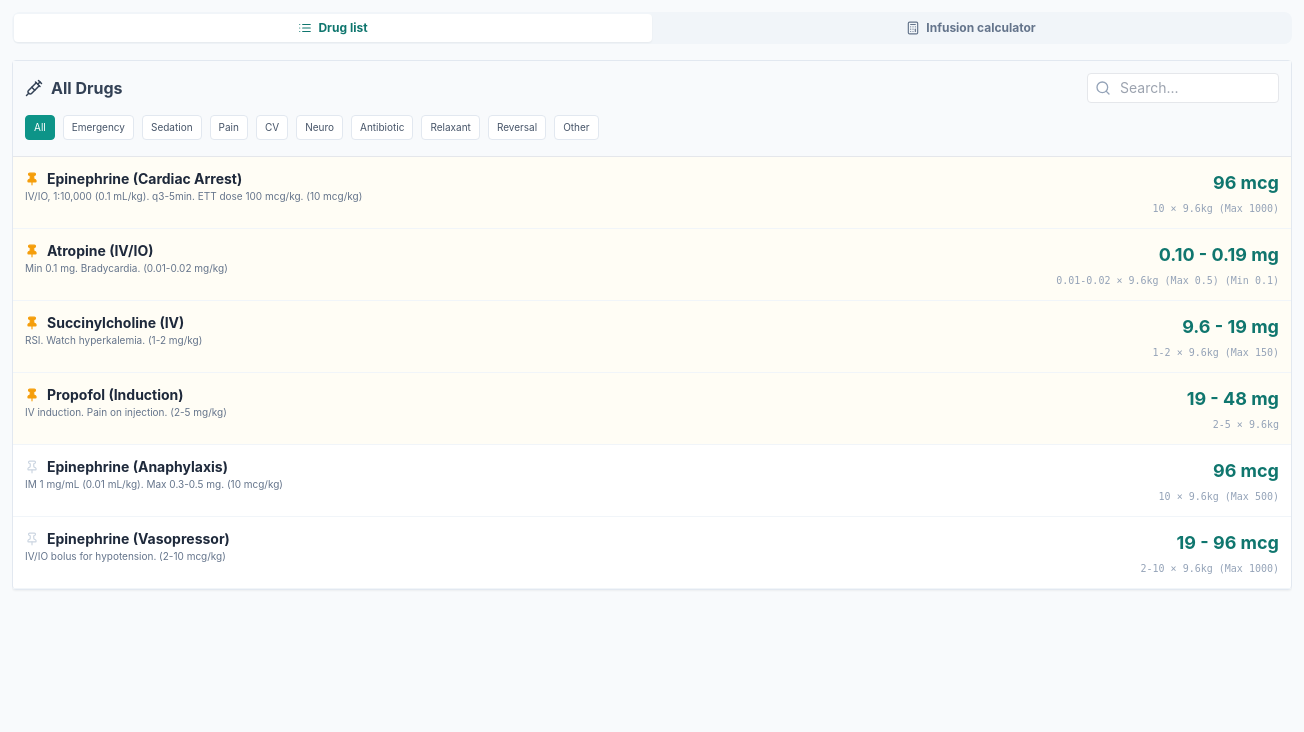
Test: Dose basis and source-unit regressions › shows required heparin input in the drug list instead of a weight-derived dose
Step 1. Type "Protamine" into the field → (1183, 88), box x1=1087 y1=73 x2=1279 y2=103
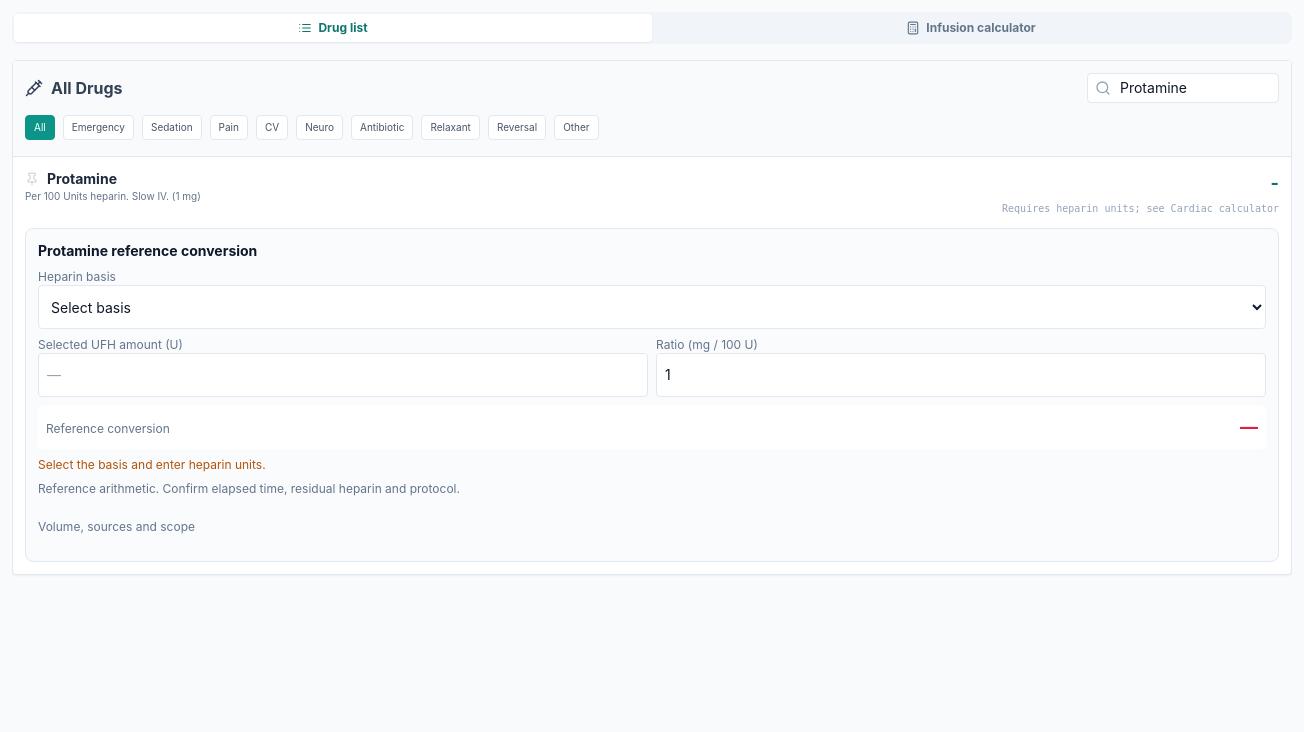
Expected: the dropdown named "Protamine heparin basis" is shown
Expected: the number field named "Protamine heparin units" is shown, x1=38 y1=353 x2=648 y2=397
Step 2. Select "Patient cumulative (excl. circuit)" in the dropdown named "Protamine heparin basis" → (652, 307), box x1=38 y1=285 x2=1266 y2=329
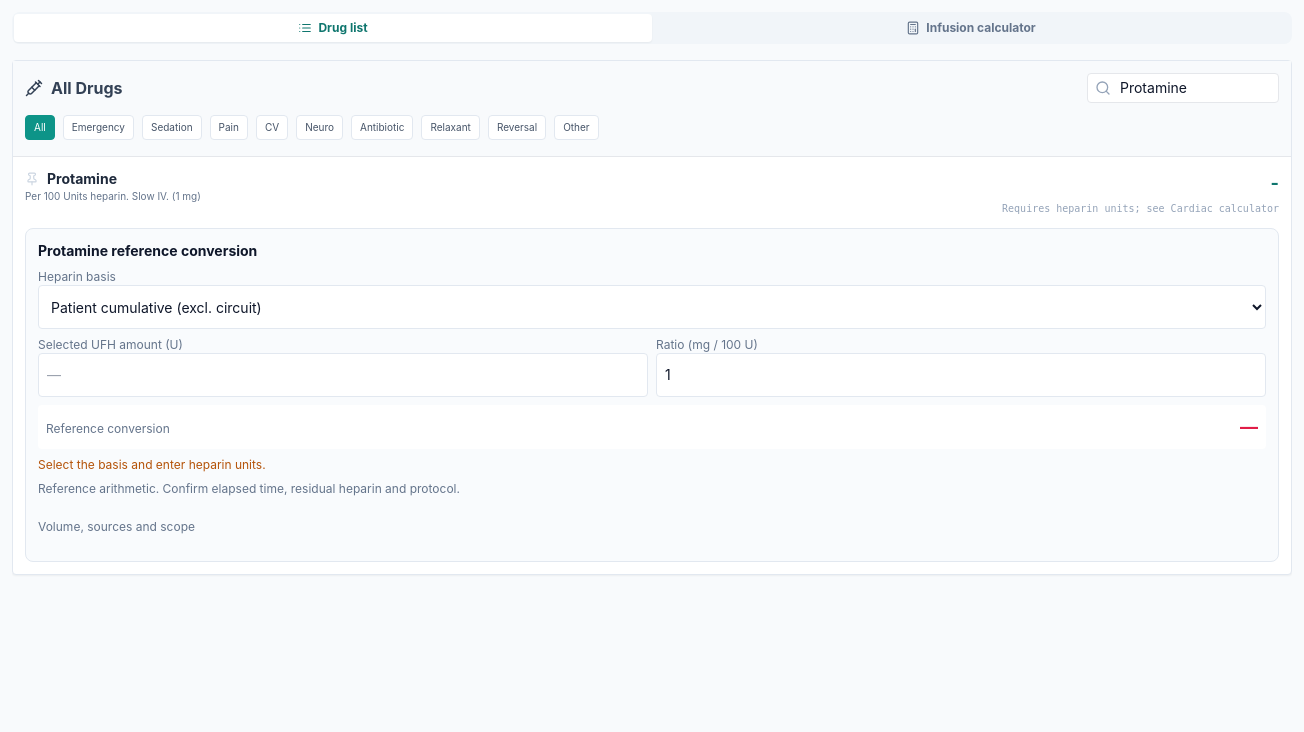
Step 3. Type "3000" into the number field named "Protamine heparin units" → (343, 375), box x1=38 y1=353 x2=648 y2=397
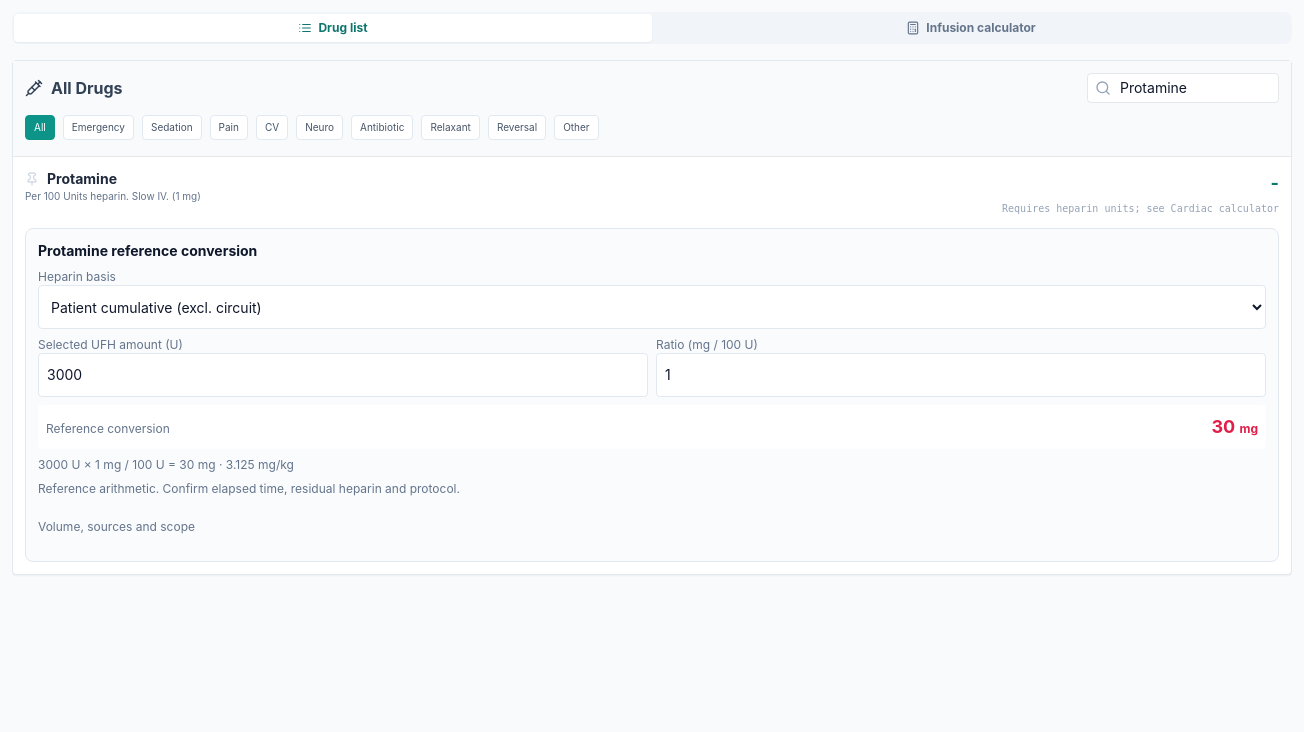
Expected: the text "30" is shown, x1=1211 y1=416 x2=1235 y2=437
